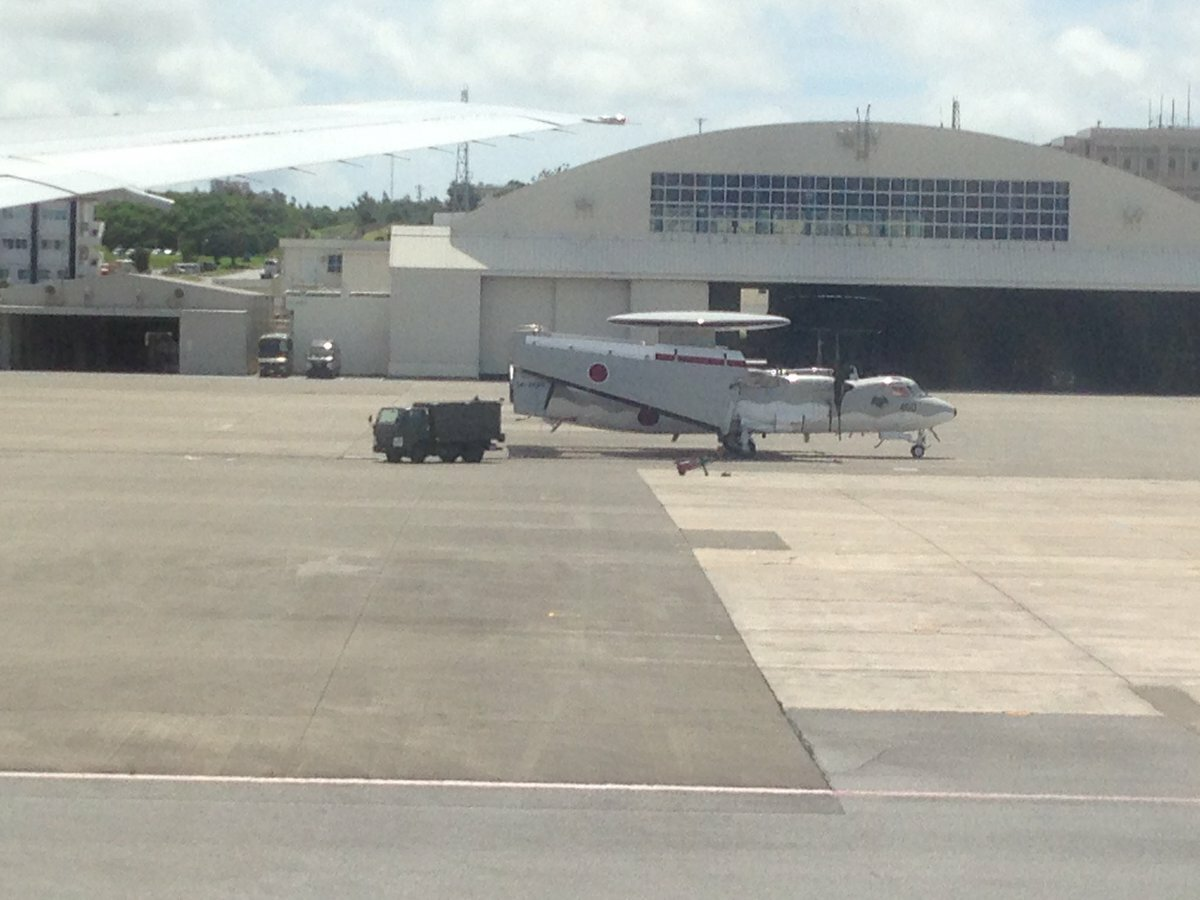E2: (509, 310, 958, 458)
